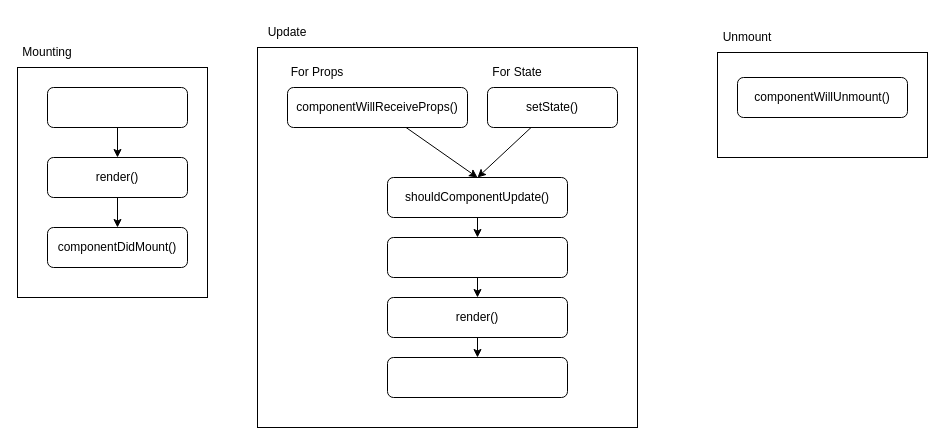
The diagram is 945 pixels wide and 445 high, and some of its shapes have lost their labels. Each missing label, with the centre of its shape:
componentDidUpdate(): the point at 477,377
componentWillMount(): the point at 117,107
componentWillUpdate(): the point at 477,257
